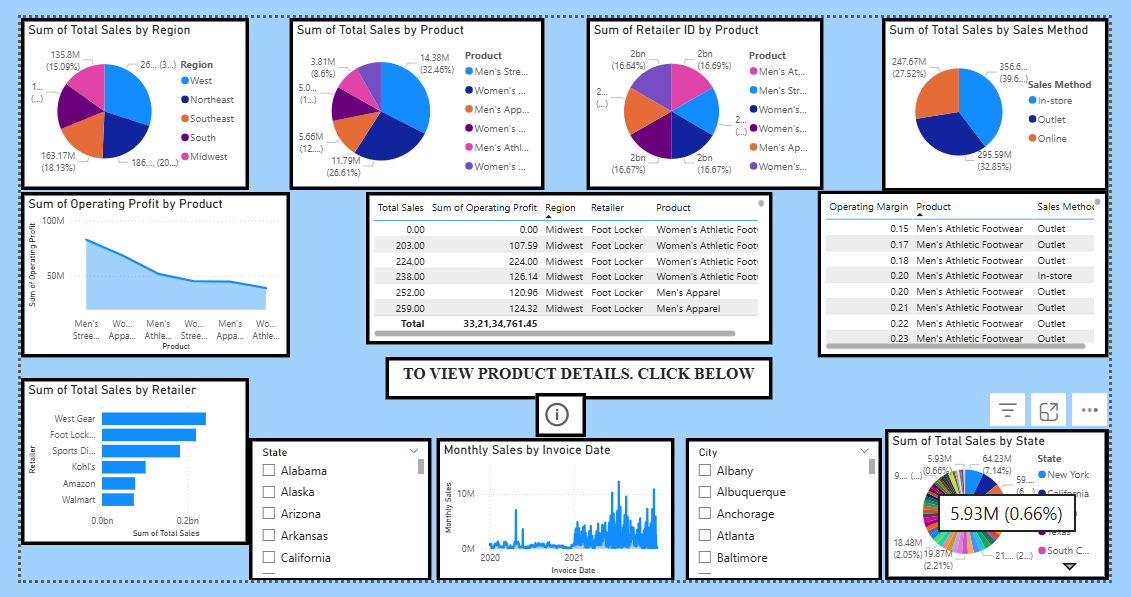

What the dashboard file says about the page in this screenshot:
{"tool":"powerbi","page":{"name":"Sales Performance Analysis","canvas":[1450,750],"ordinal":1},"visuals":[{"type":"pieChart","fields":{"Y":["Sum(Table 1 (Data Sales Adidas).Total Sales)"],"Category":["Table 1 (Data Sales Adidas).Product"]},"box":[358.9,0,339.9,229.5],"z":0},{"type":"pieChart","fields":{"Y":["Sum(Table 1 (Data Sales Adidas).Total Sales)"],"Category":["Table 1 (Data Sales Adidas).Sales Method"]},"box":[1147.5,0,302,231.2],"z":1000},{"type":"pieChart","fields":{"Y":["Sum(Table 1 (Data Sales Adidas).Total Sales)"],"Category":["Table 1 (Data Sales Adidas).Region"]},"box":[0,0,303.7,229.5],"z":2000},{"type":"areaChart","fields":{"Category":["Table 1 (Data Sales Adidas).Product"],"Y":["Sum(Table 1 (Data Sales Adidas).Operating Profit)"]},"box":[0,231.2,358.9,220.9],"z":3000},{"type":"pieChart","fields":{"Y":["Sum(Table 1 (Data Sales Adidas).Retailer ID)"],"Category":["Table 1 (Data Sales Adidas).Product"]},"box":[754,0,315.8,229.5],"z":4000},{"type":"barChart","fields":{"Y":["Sum(Table 1 (Data Sales Adidas).Total Sales)"],"Category":["Table 1 (Data Sales Adidas).Retailer"]},"box":[0,479.5,304,222.6],"z":5000},{"type":"tableEx","fields":{"Values":["Table 1 (Data Sales Adidas).Total Sales","Sum(Table 1 (Data Sales Adidas).Operating Profit)","Table 1 (Data Sales Adidas).Region","Table 1 (Data Sales Adidas).Retailer","Table 1 (Data Sales Adidas).Product"]},"box":[460.7,231.2,541.8,203.6],"z":6000},{"type":"tableEx","fields":{"Values":["Table 1 (Data Sales Adidas).Operating Margin","Table 1 (Data Sales Adidas).Product","Table 1 (Data Sales Adidas).Sales Method"]},"box":[1061.2,229.5,388.2,222.6],"z":7000},{"type":"pieChart","fields":{"Y":["Sum(Table 1 (Data Sales Adidas).Total Sales)"],"Category":["Table 1 (Data Sales Adidas).State"]},"box":[1151.7,548,297.6,201.2],"z":8000},{"type":"slicer","fields":{"Values":["Table 1 (Data Sales Adidas).City"]},"box":[885.2,559.1,262.3,191.5],"z":9000},{"type":"slicer","fields":{"Values":["Table 1 (Data Sales Adidas).State"]},"box":[303.7,559.1,243.3,191.5],"z":10000},{"type":"textbox","box":[486.6,452.1,515.9,56.9],"z":11000},{"type":"actionButton","box":[686.7,500.4,67.3,58.7],"z":12000},{"type":"areaChart","fields":{"Category":["Table 1 (Data Sales Adidas).Invoice Date"],"Y":["Table 1 (Data Sales Adidas).Monthly Sales"]},"box":[553.9,559.1,317.5,191.5],"z":13000}]}

Visuals, with their boxes in screenshot pixels (x1, y1, x2, y2), scaled from the page's 1450x750 canvas onto the 1131x597 screenshot:
pieChart - Sum(Table 1 (Data Sales Adidas).Total Sales) x Table 1 (Data Sales Adidas).Product: {"x1": 280, "y1": 0, "x2": 545, "y2": 183}
pieChart - Sum(Table 1 (Data Sales Adidas).Total Sales) x Table 1 (Data Sales Adidas).Sales Method: {"x1": 895, "y1": 0, "x2": 1130, "y2": 184}
pieChart - Sum(Table 1 (Data Sales Adidas).Total Sales) x Table 1 (Data Sales Adidas).Region: {"x1": 0, "y1": 0, "x2": 237, "y2": 183}
areaChart - Table 1 (Data Sales Adidas).Product x Sum(Table 1 (Data Sales Adidas).Operating Profit): {"x1": 0, "y1": 184, "x2": 280, "y2": 360}
pieChart - Sum(Table 1 (Data Sales Adidas).Retailer ID) x Table 1 (Data Sales Adidas).Product: {"x1": 588, "y1": 0, "x2": 834, "y2": 183}
barChart - Sum(Table 1 (Data Sales Adidas).Total Sales) x Table 1 (Data Sales Adidas).Retailer: {"x1": 0, "y1": 382, "x2": 237, "y2": 559}
tableEx - Table 1 (Data Sales Adidas).Total Sales x Sum(Table 1 (Data Sales Adidas).Operating Profit): {"x1": 359, "y1": 184, "x2": 782, "y2": 346}
tableEx - Table 1 (Data Sales Adidas).Operating Margin x Table 1 (Data Sales Adidas).Product: {"x1": 828, "y1": 183, "x2": 1130, "y2": 360}
pieChart - Sum(Table 1 (Data Sales Adidas).Total Sales) x Table 1 (Data Sales Adidas).State: {"x1": 898, "y1": 436, "x2": 1130, "y2": 596}
slicer - Table 1 (Data Sales Adidas).City: {"x1": 690, "y1": 445, "x2": 895, "y2": 596}
slicer - Table 1 (Data Sales Adidas).State: {"x1": 237, "y1": 445, "x2": 427, "y2": 596}
textbox: {"x1": 380, "y1": 360, "x2": 782, "y2": 405}
actionButton: {"x1": 536, "y1": 398, "x2": 588, "y2": 445}
areaChart - Table 1 (Data Sales Adidas).Invoice Date x Table 1 (Data Sales Adidas).Monthly Sales: {"x1": 432, "y1": 445, "x2": 680, "y2": 596}
